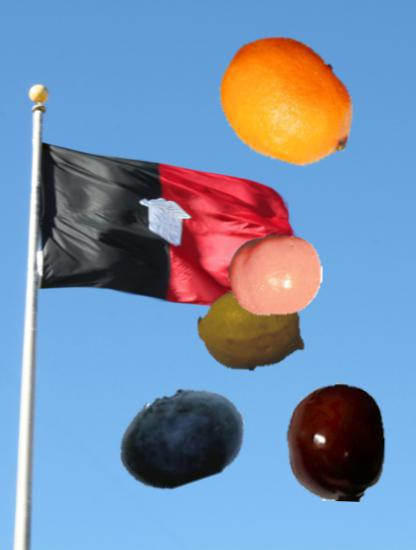Blueberry: (117, 373, 246, 502)
Cherry: (277, 383, 395, 501)
Clementine: (228, 227, 323, 322)
Lemon: (213, 29, 362, 178), (196, 273, 307, 384)
